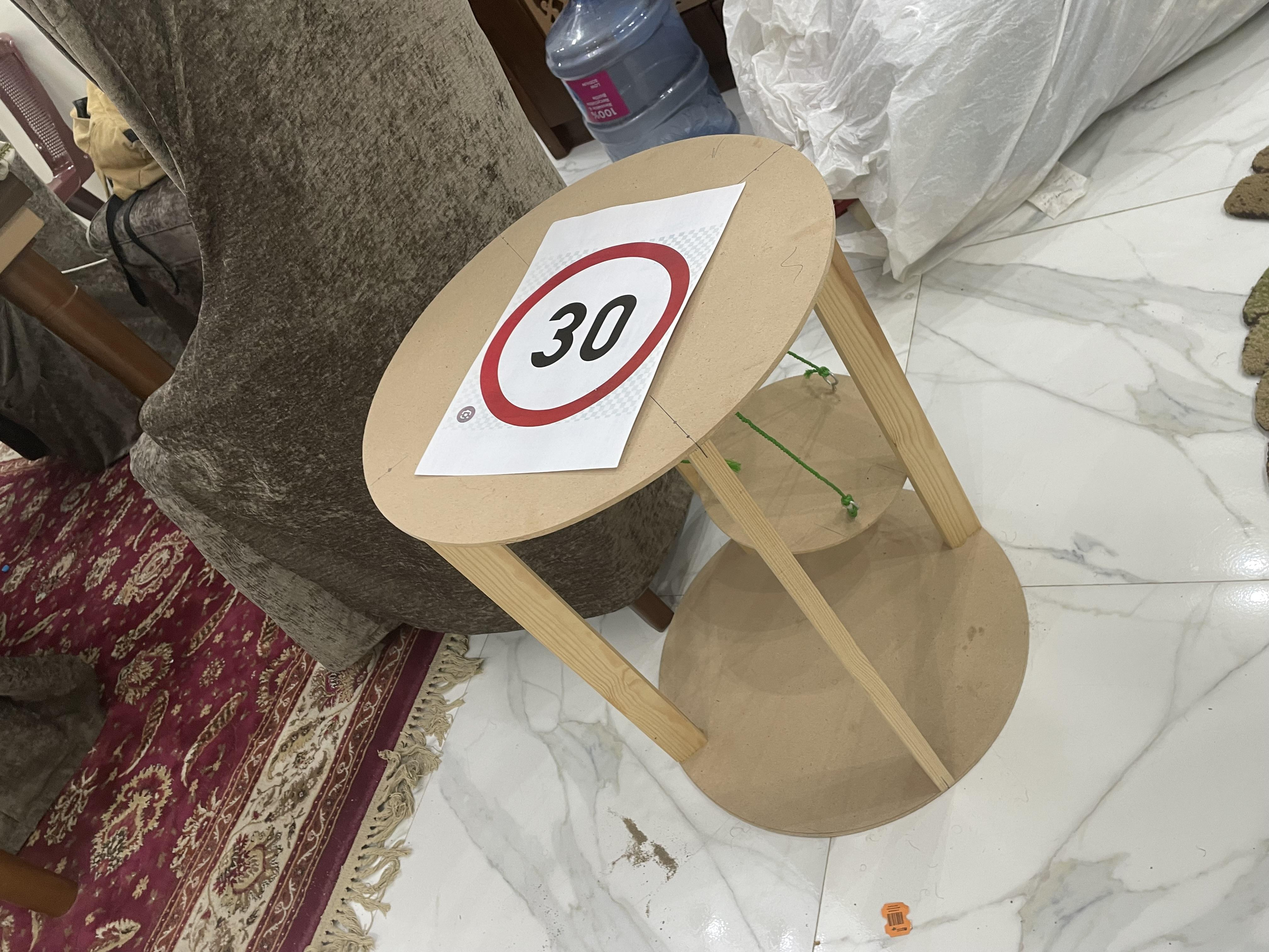30-speed: (706, 350, 969, 524)
